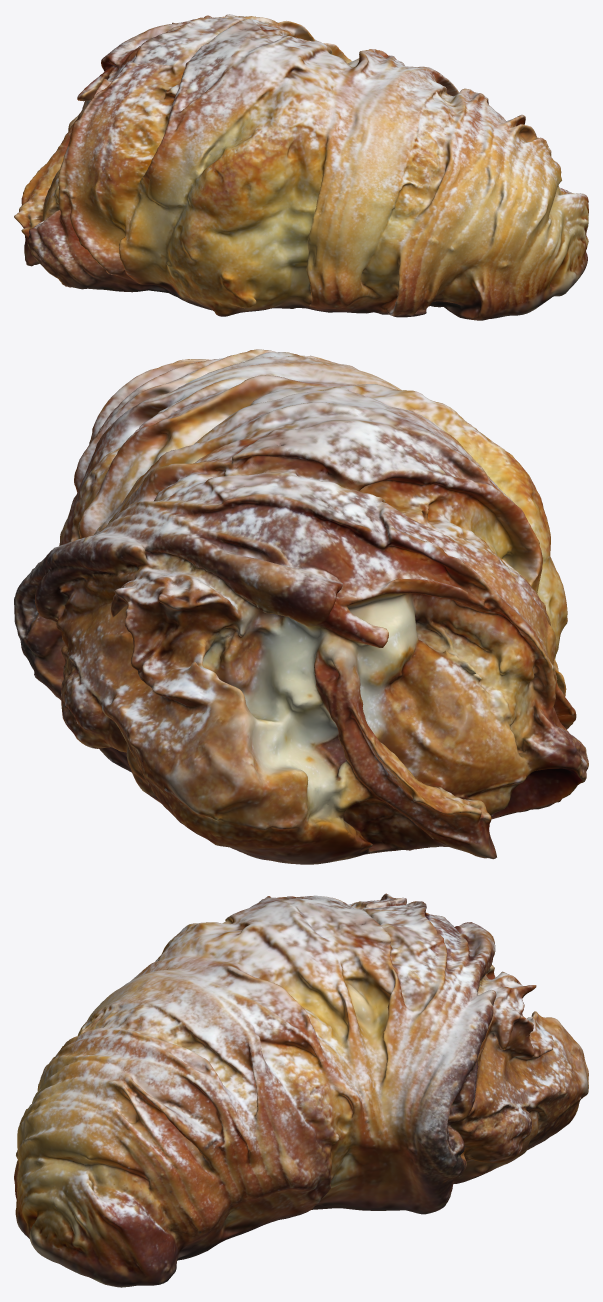
File: centro.glb
The picture shows the model from 3 angles, top to bottom: view 1: azimuth 30°, elevation 25°; view 2: azimuth 150°, elevation 25°; view 3: azimuth 270°, elevation 25°; orthographic projection. The views are drawn at different scales.
Visible parts, largest first — view 1: 3DModel; view 2: 3DModel; view 3: 3DModel.
Boxes of the visible parts, x1=… form: 3DModel: x1=14, y1=14, x2=588, y2=320; 3DModel: x1=14, y1=349, x2=588, y2=864; 3DModel: x1=14, y1=893, x2=588, y2=1287.
Bounding box in the file's own units: 0.2959 × 0.1519 × 0.2928.
Materials: 1 (1 with a texture image).
